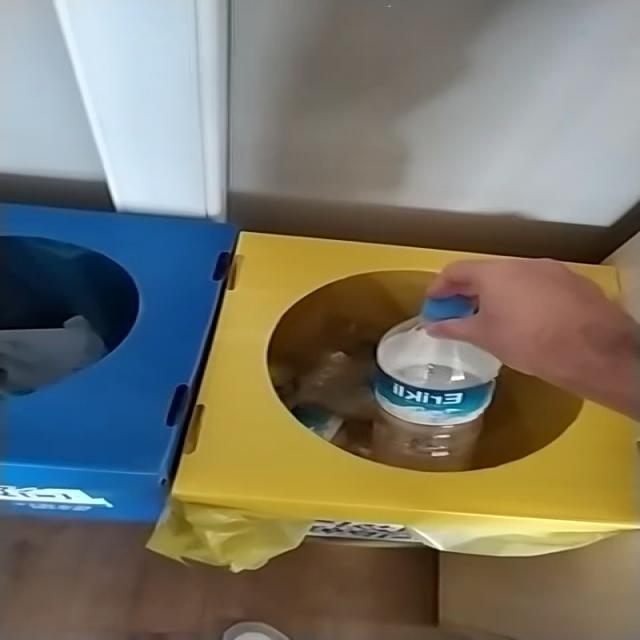plastic: (373, 295, 501, 472)
